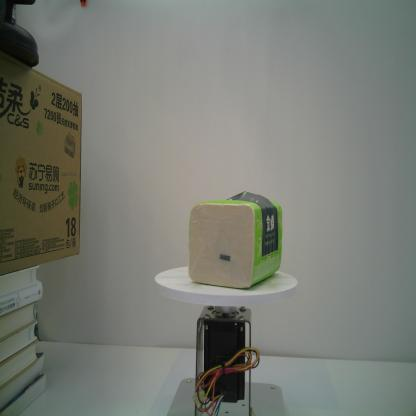Tissue: (186, 188, 284, 290)
